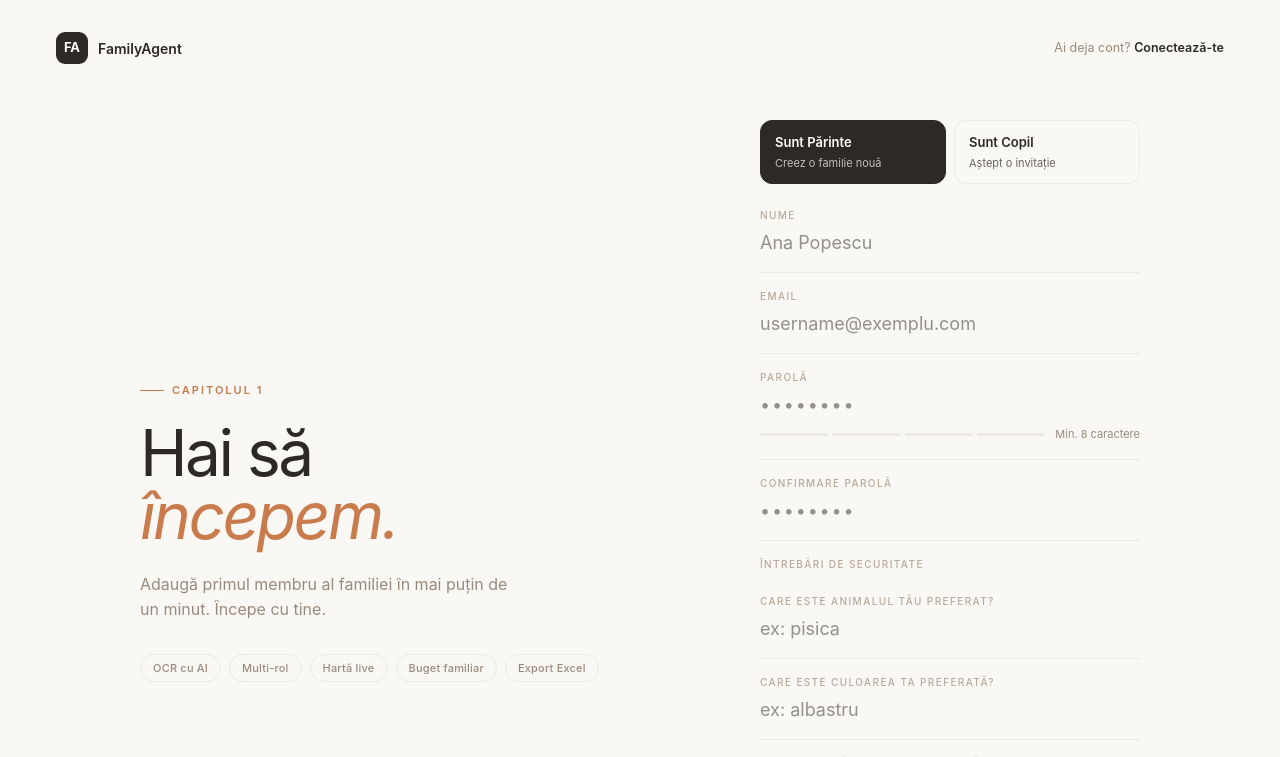
RegisterForm - 100% Coverage & Zero Errors › 2. Arată eroare de validare când doar numele lipsește
Completăm toate câmpurile EXCEPT nume → prima eroare va fi "Numele este obligatoriu."
Type "test@test.com" into the field with placeholder "username@exemplu.com".
click(950, 324); type("test@test.com")  # box [760,310,1140,337]
Type "Password1!" into the 1st password field with placeholder "••••••••".
click(950, 404); type("Password1!")  # box [760,391,1140,418]
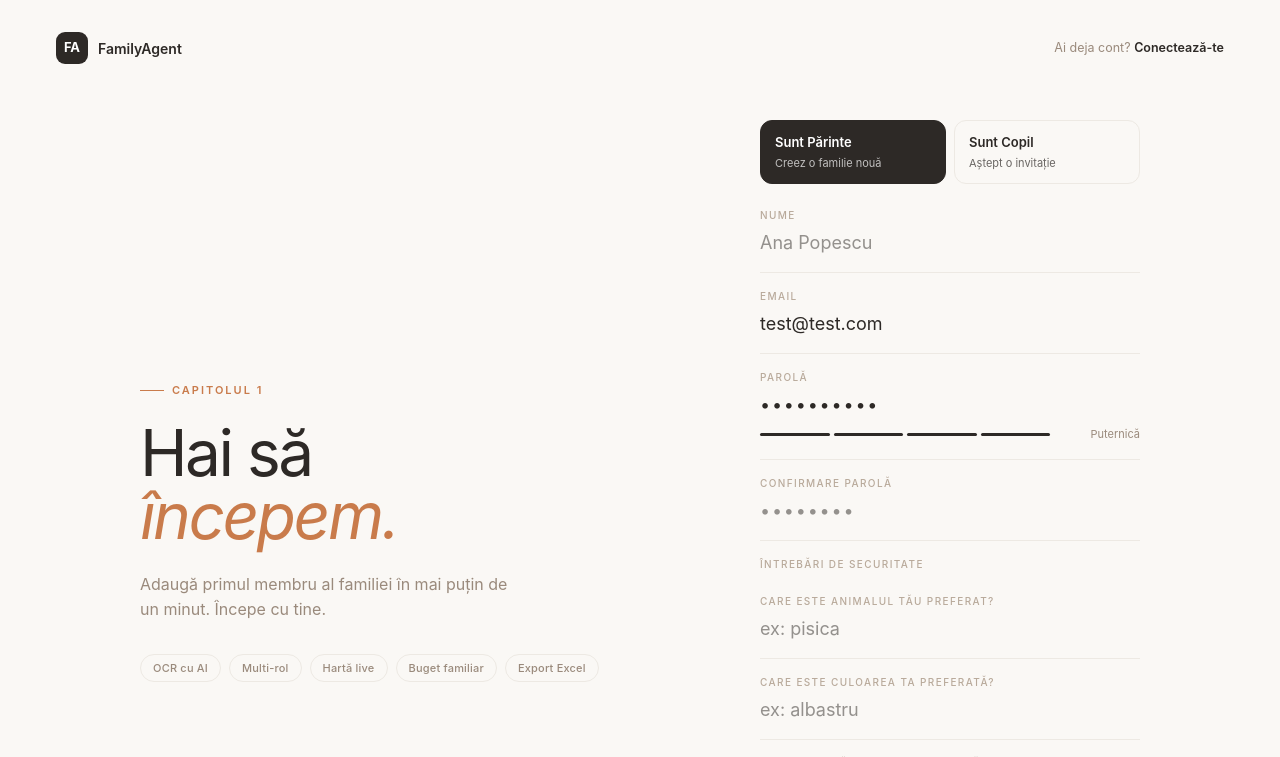
Type "Password1!" into the password field with placeholder "••••••••".
click(950, 510); type("Password1!")  # box [760,496,1140,524]
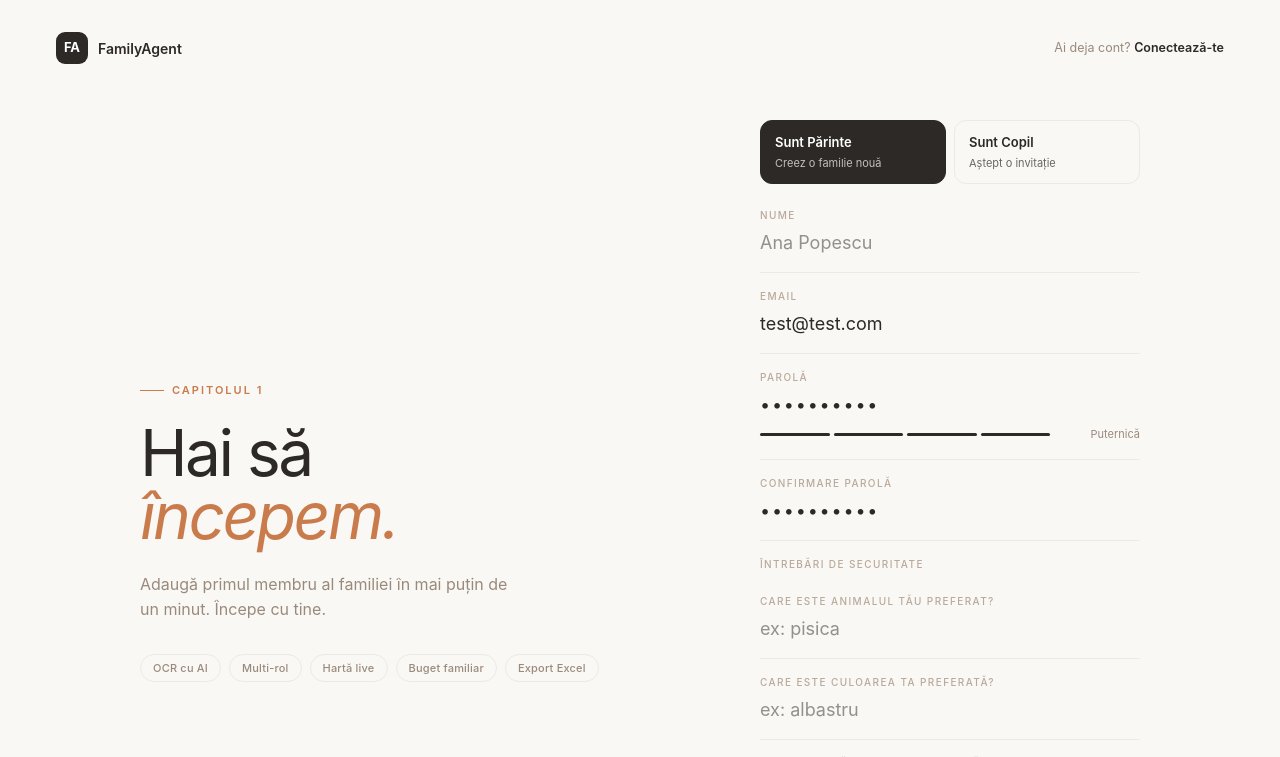
Type "Pisica" into the field with placeholder "ex: pisica".
click(950, 628); type("Pisica")  # box [760,614,1140,642]
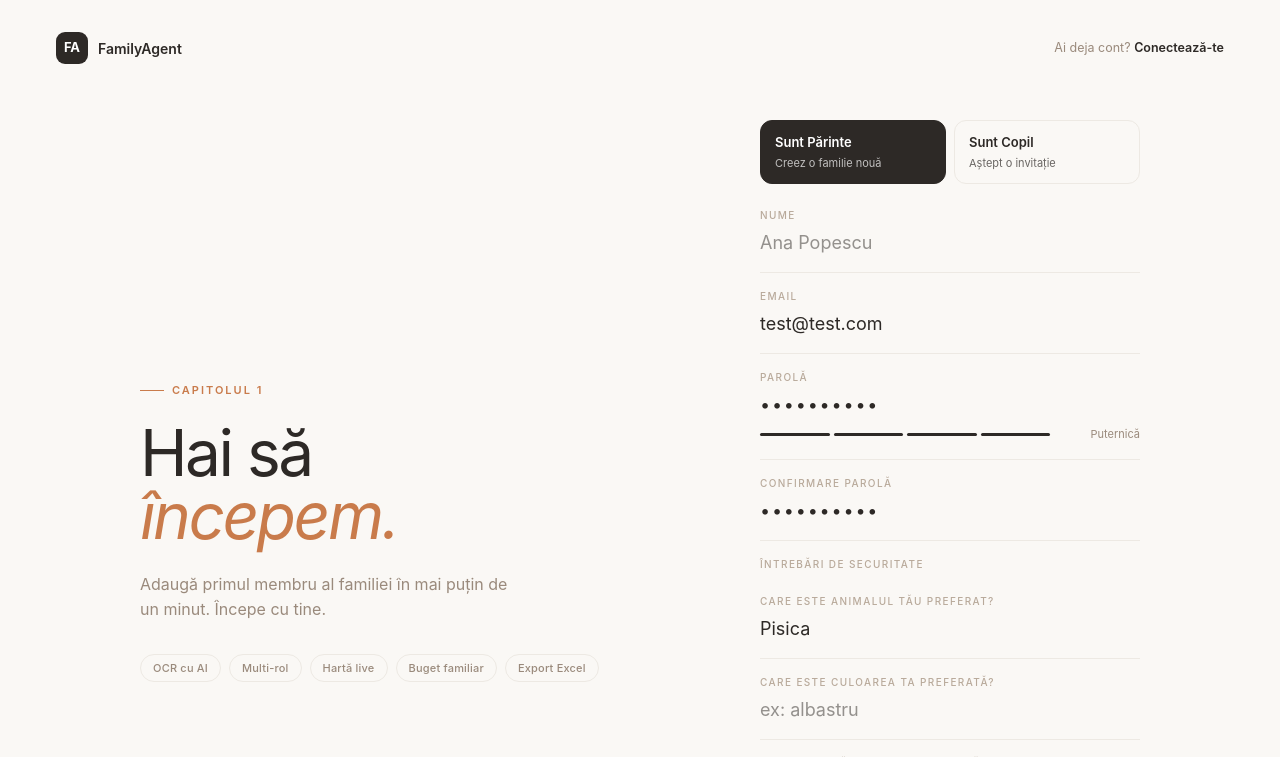
Type "Albastru" into the field with placeholder "ex: albastru".
click(950, 709); type("Albastru")  # box [760,696,1140,722]
(page scrolled)
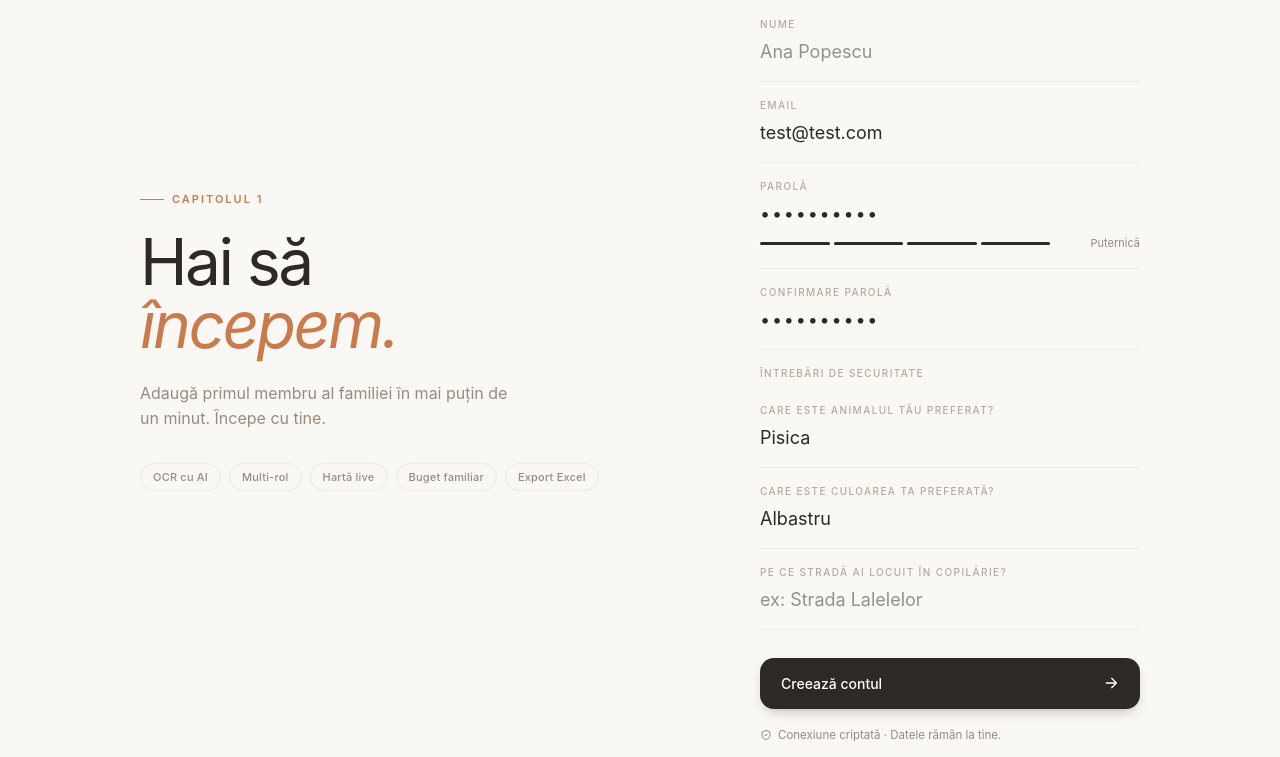
Type "Strada Lalelelor" into the field with placeholder "ex: Strada Lalelelor".
click(950, 599); type("Strada Lalelelor")  # box [760,586,1140,612]
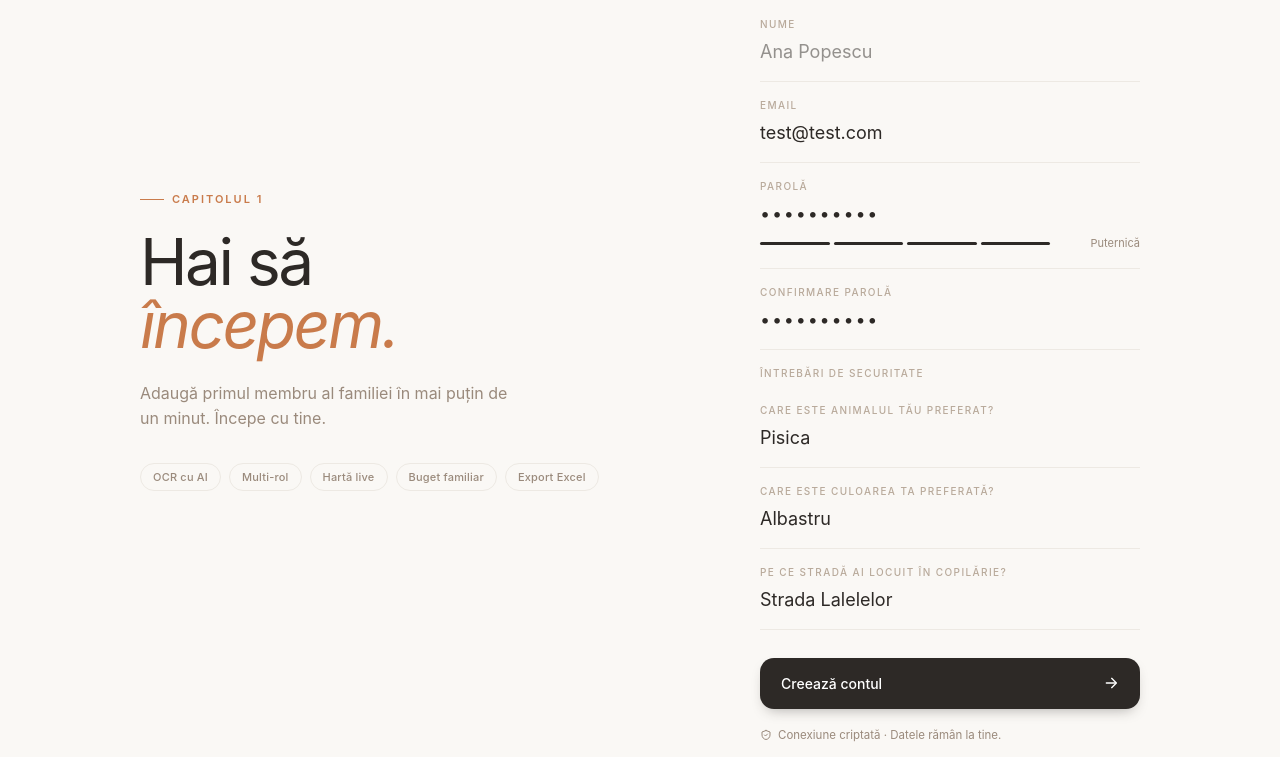
Submit the form from the button "Creează contul", box [760,658,1140,708]
(page scrolled)
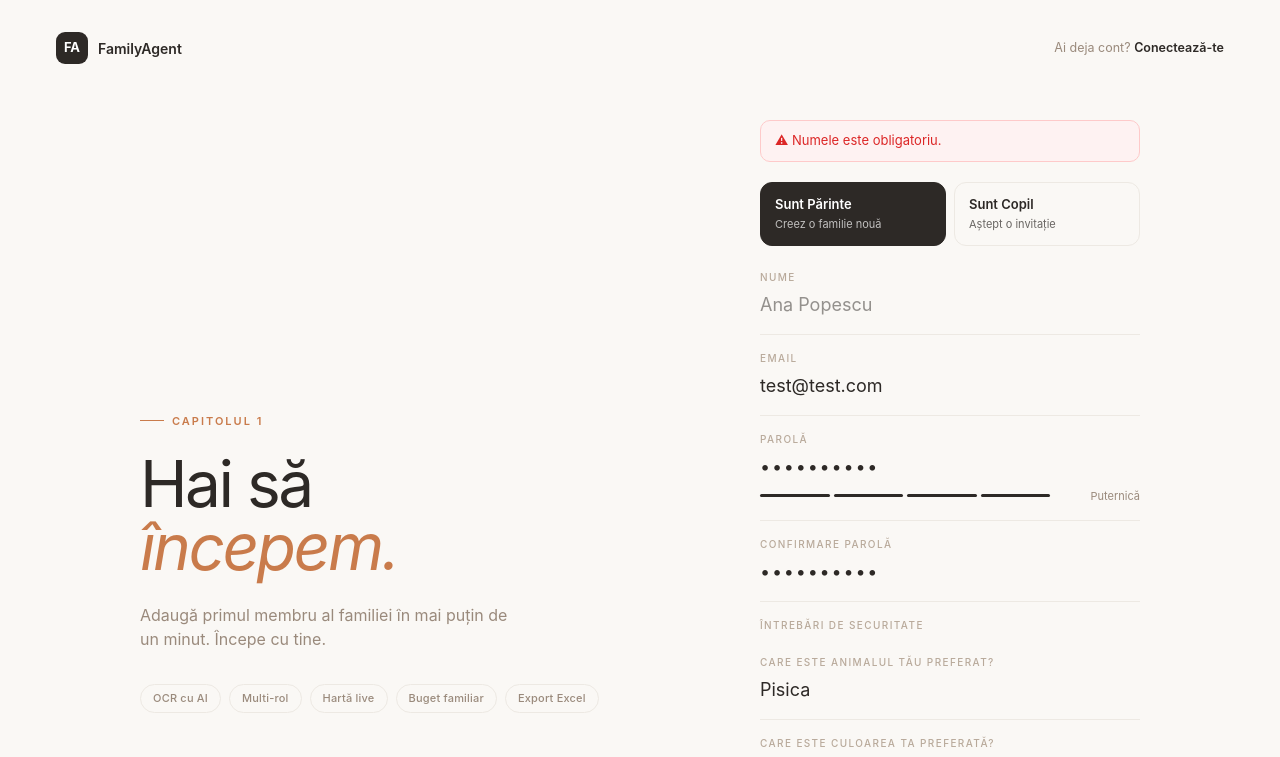
Check: the text "⚠ Numele este obligatoriu." is shown, box [760,120,1140,162]
